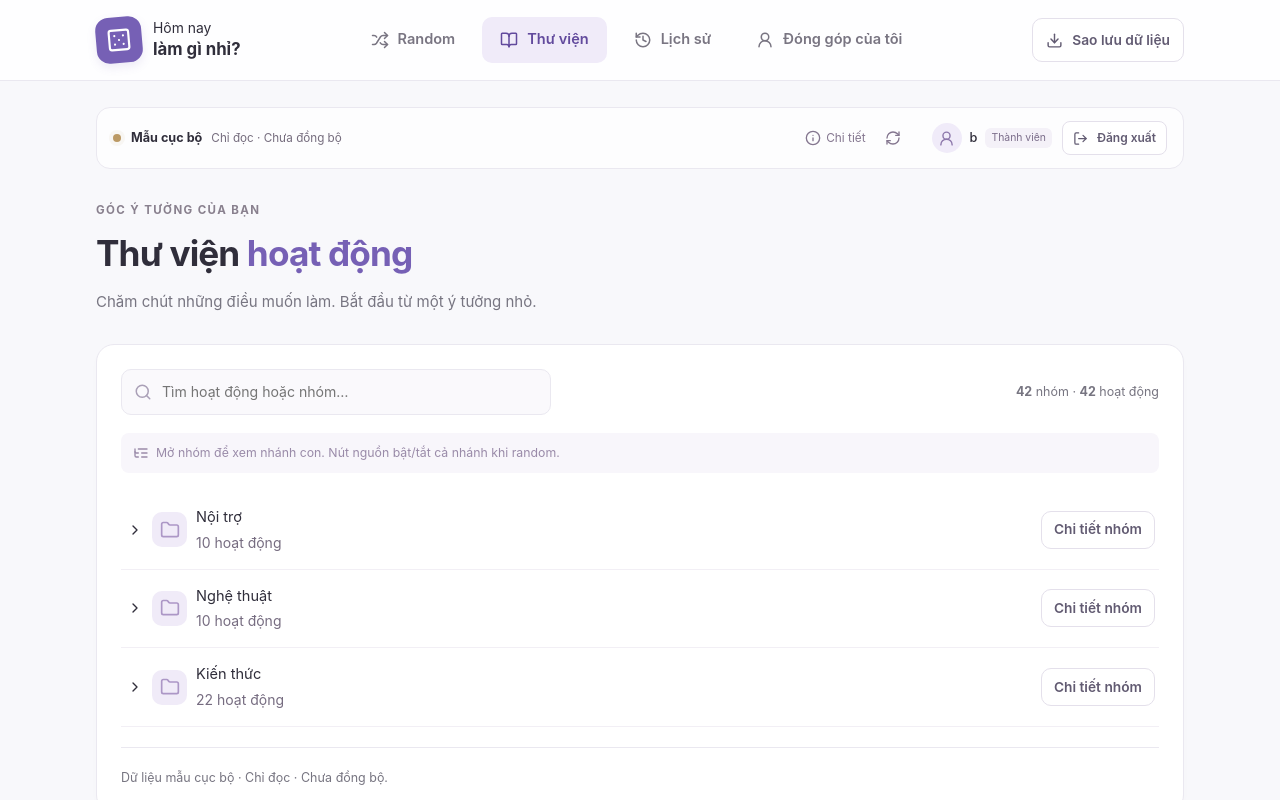
Test: Random cho khách và mẫu chỉ đọc › đăng nhập vẫn không ghi được mẫu cục bộ hoặc import vào chế độ mẫu
Check: the button named "Tải lại thư viện" is enabled, box [878,120,908,156]
Click the 1st button "Chi tiết nhóm" at (1098, 530), box [1041,511,1155,549]
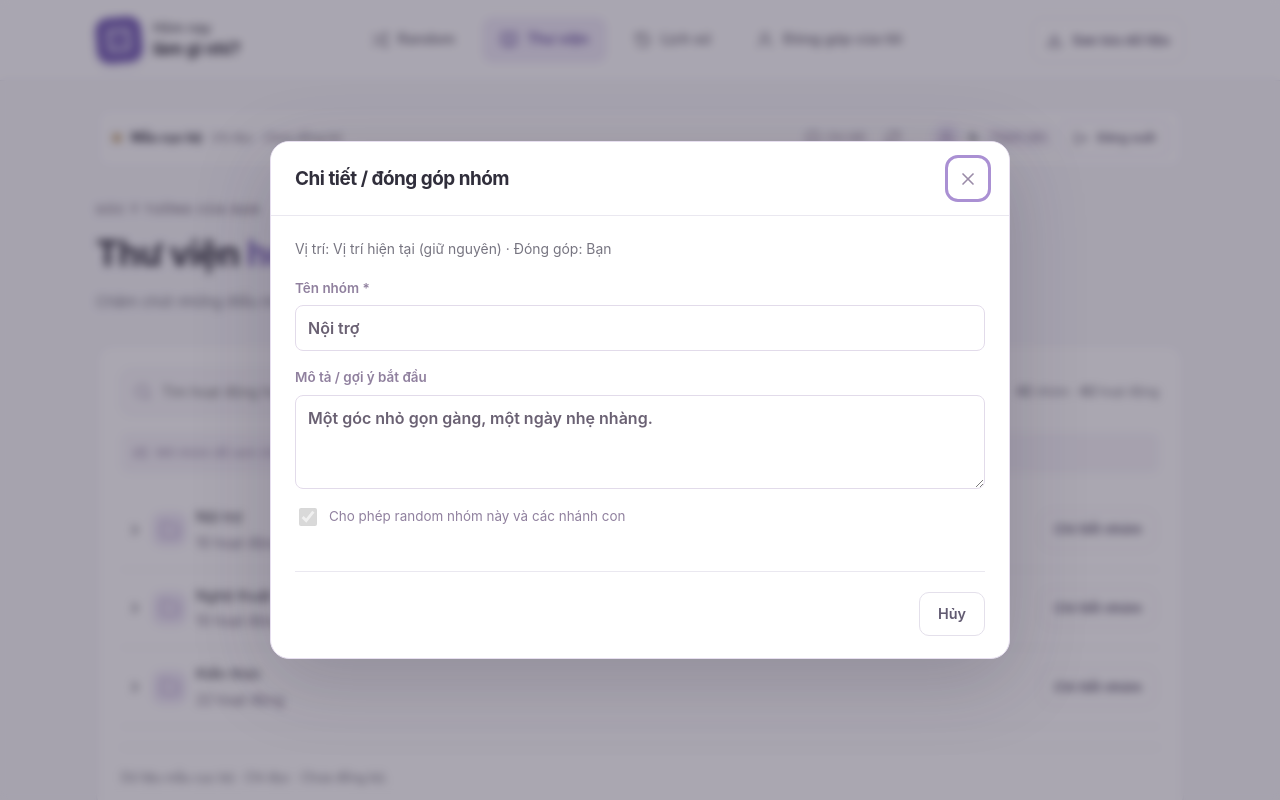
Click the button "Hủy" at (952, 614), box [919,592,985,636]
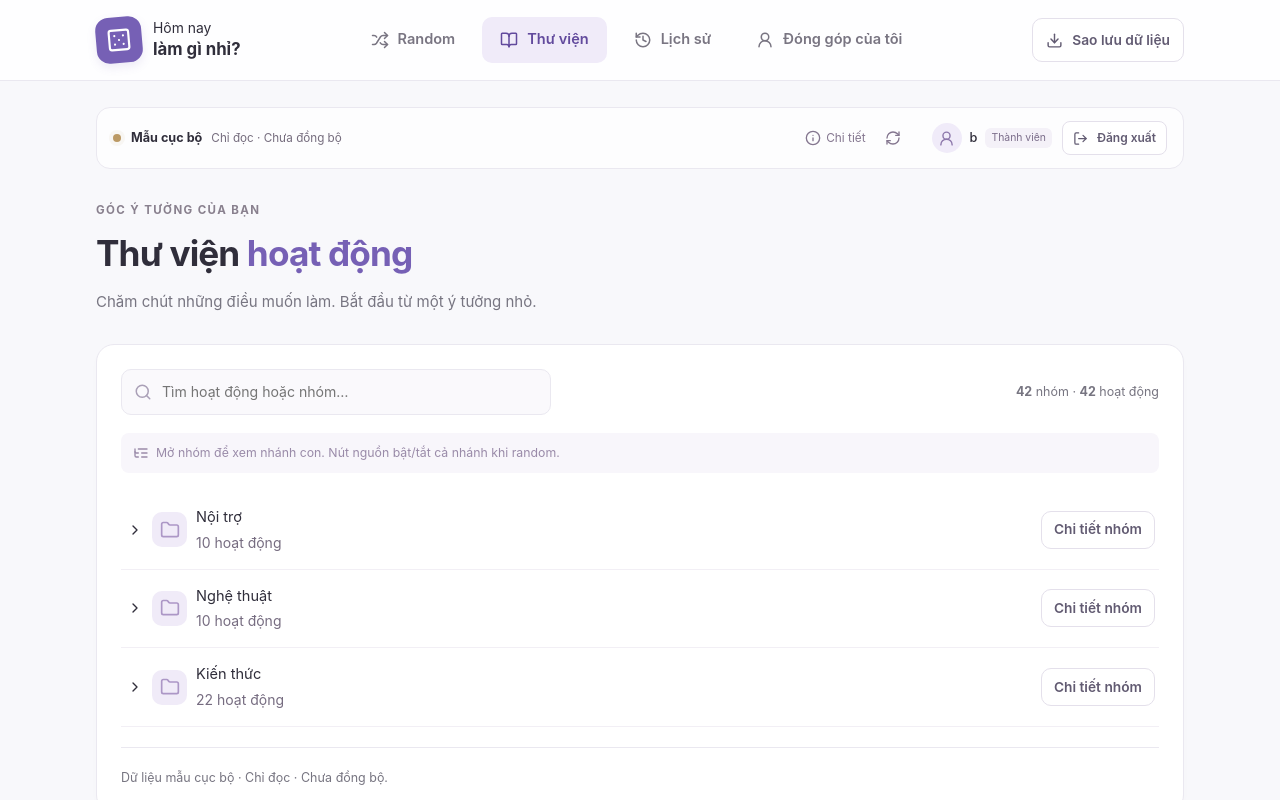
Click the button "Sao lưu dữ liệu" at (1108, 40), box [1032,18,1184,62]
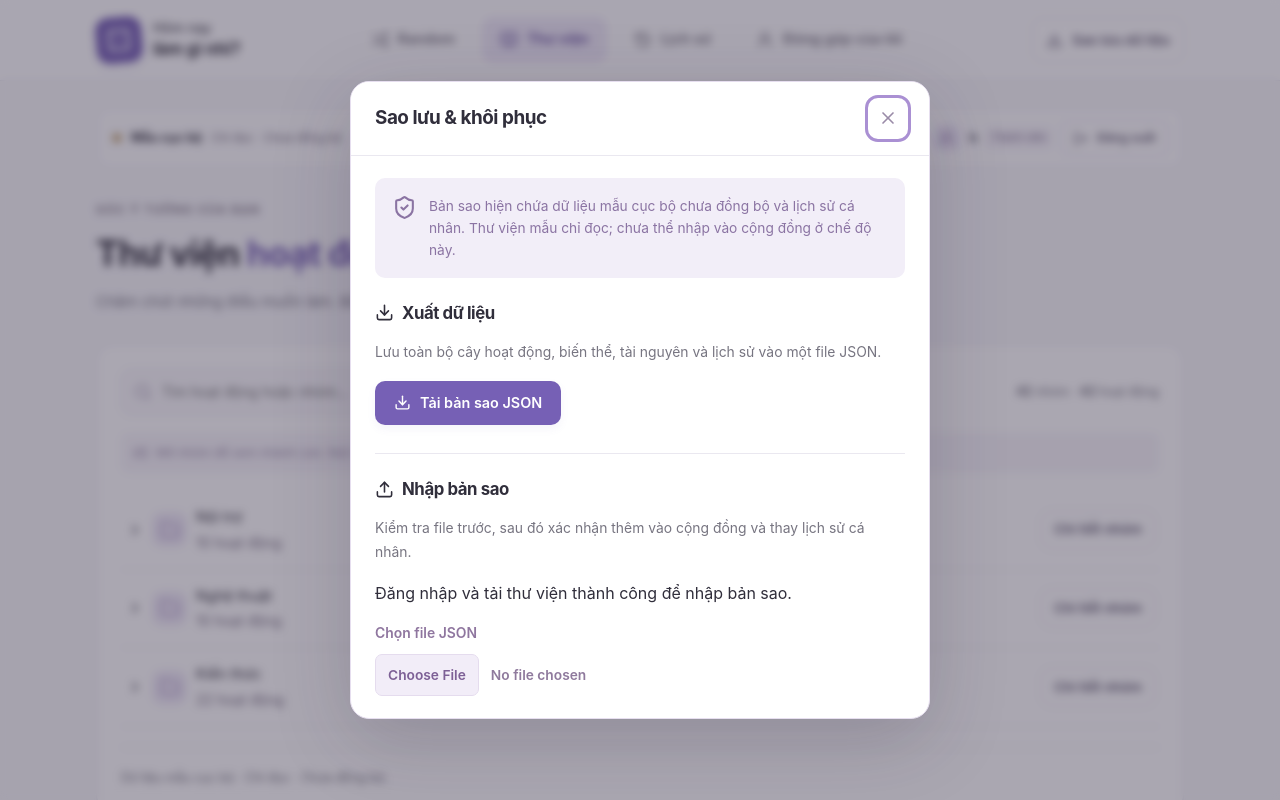
Check: the file field labelled "Chọn file JSON" is disabled, box [375,654,905,696]
